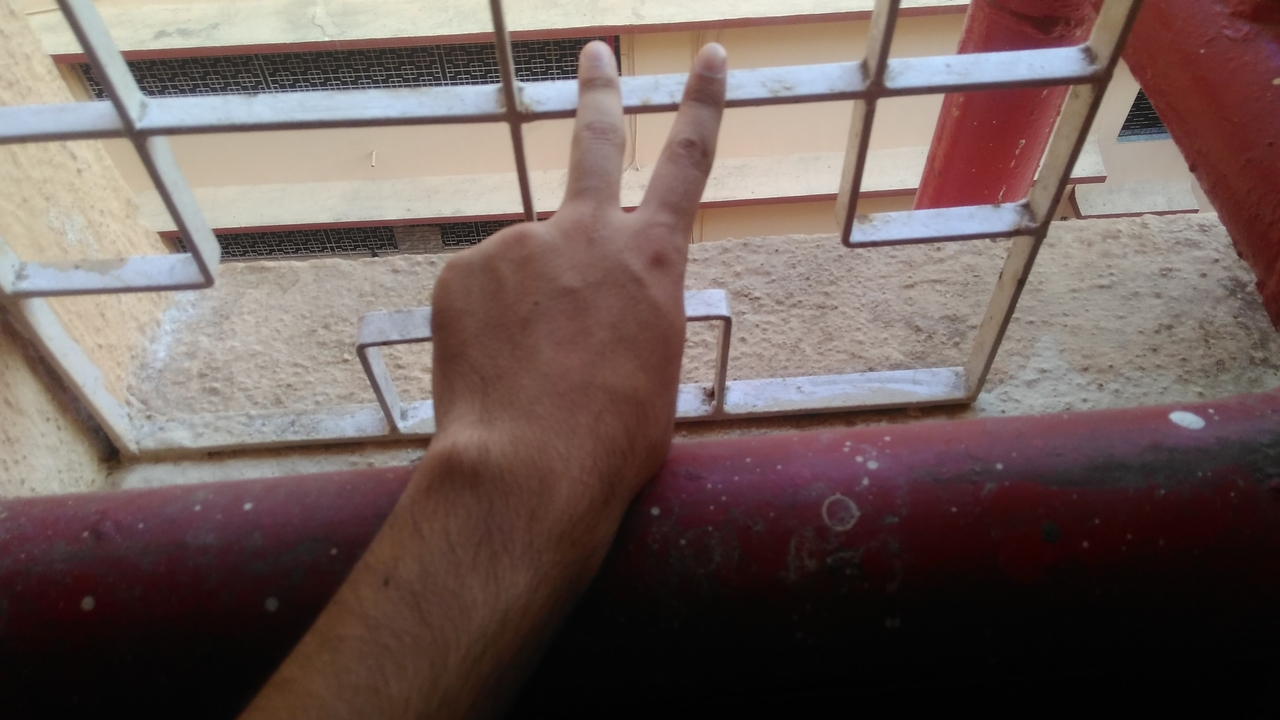fingertip: (686, 36, 732, 80), (574, 36, 622, 74)
